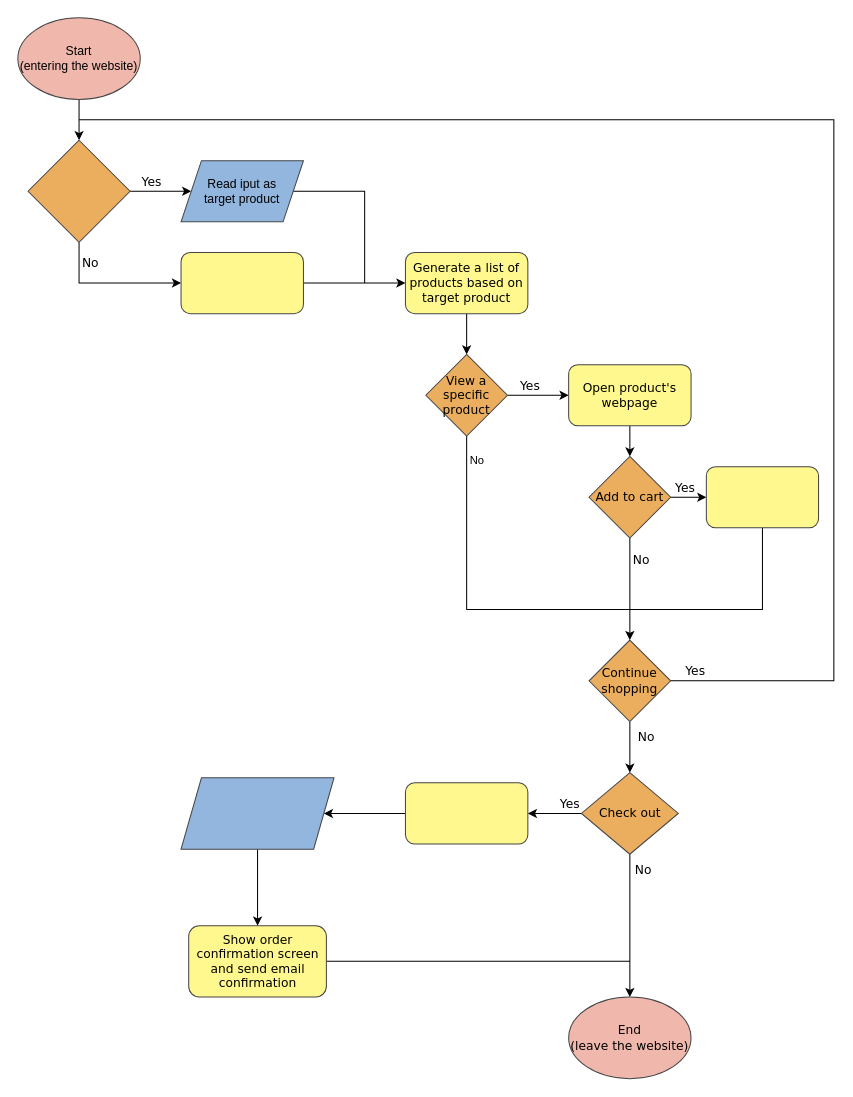
This 853x1097 diagram has some shape labels left out. The centre of each missing label's shape, as x and y in pixels:
On View Payment screen, read input as payment information: the point at 257,813
Search for a product: the point at 78,190
Send added to cart confirmation: the point at 762,497
Set target product as null/default: the point at 241,282
Show View Cart screen: the point at 466,813
